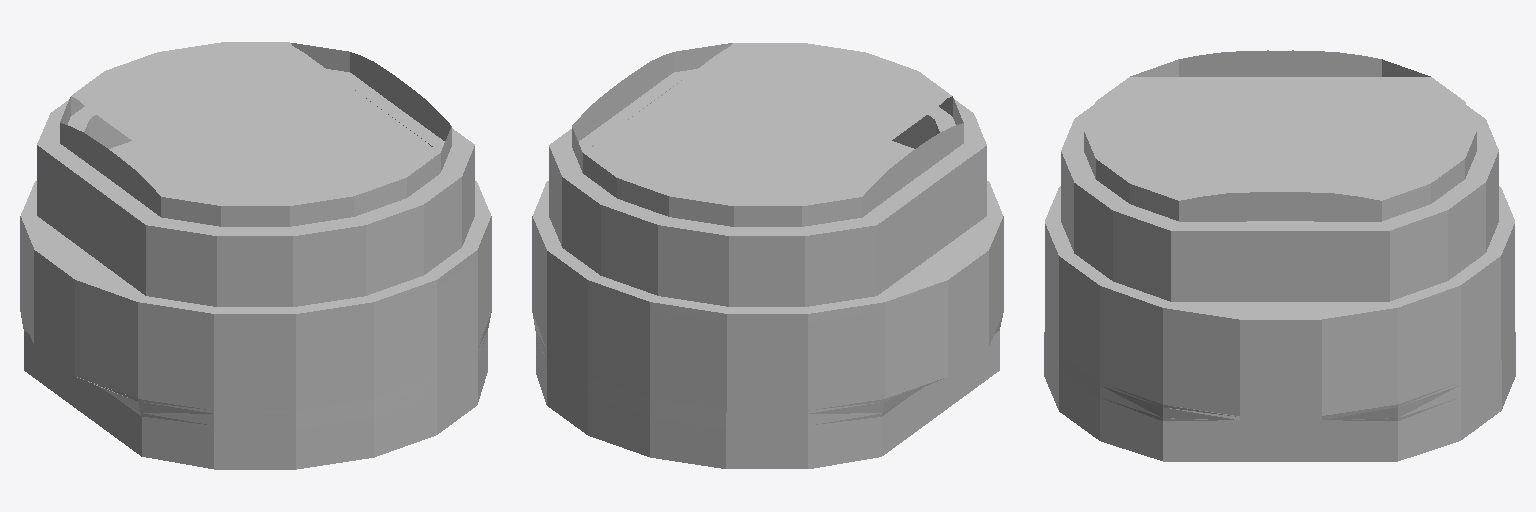
URDF robot description (spot_arm):
<?xml version="1.0" ?>
<robot name="spot_arm" xmlns:xacro="http://www.ros.org/wiki/xacro">

<material name="silver">
  <color rgba="0.700 0.700 0.700 1.000"/>
</material>
<link name="body">
    <visual>
        <geometry>
            <mesh filename="package://spot_arm/meshes/body.dae" />
        </geometry>
    </visual>
    <collision>
        <geometry>
            <mesh filename="package://spot_arm/meshes/body_collision.dae" />
        </geometry>
    </collision>
</link>

<joint name="base_arm_joint" type="fixed">
  <origin xyz="0.29 0 0.08" rpy="0 0 0" />
  <parent link="body" />
  <child link="base_arm_link" />
</joint>

<link name="base_arm_link">
  <inertial>
    <origin rpy="0 0 0" xyz="1.2371844231029972e-17 0.0 0.0325"/>
    <mass value="5.770791545379091"/>
    <inertia ixx="0.007226" ixy="-0.0" ixz="0.0" iyy="0.007226" iyz="0.0" izz="0.010387"/>
  </inertial>
  <visual>
    <origin rpy="0 0 0" xyz="0 0 0"/>
    <geometry>
      <mesh filename="package://spot_arm/meshes/arm/base_link.dae" scale="0.1 0.1 0.1"/>
    </geometry>
  </visual>
  <collision>
    <origin rpy="0 0 0" xyz="0 0 0"/>
    <geometry>
      <mesh filename="package://spot_arm/meshes/arm/base_link_collision.dae" scale="0.1 0.1 0.1"/>
    </geometry>
  </collision>
</link>

<joint name="arm_joint1" type="revolute">
  <origin rpy="0 0 1.5707963267948966" xyz="0.0 0.0 0.065"/>
  <parent link="base_arm_link"/>
  <child link="link1"/>
  <axis xyz="0.0 0.0 1.0"/>
  <limit effort="100" lower="-3.141593" upper="2.617994" velocity="100"/>
</joint>

<link name="link1">
  <inertial>
    <origin rpy="0 0 0" xyz="0.05071972800114364 -1.0308563411658574e-17 0.04676911608650795"/>
    <mass value="6.925827706354272"/>
    <inertia ixx="0.01241" ixy="-0.0" ixz="-0.001047" iyy="0.010387" iyz="0.0" izz="0.012306"/>
  </inertial>
  <visual>
    <origin rpy="0 0 0" xyz="-0.0 -0.0 -0.065"/>
    <geometry>
      <mesh filename="package://spot_arm/meshes/arm/link1.dae" scale="0.1 0.1 0.1"/>
    </geometry>
    <material name="silver"/>
  </visual>
  <collision>
    <origin rpy="0 0 0" xyz="-0.0 -0.0 -0.065"/>
    <geometry>
      <mesh filename="package://spot_arm/meshes/arm/link1_collision.dae" scale="0.1 0.1 0.1"/>
    </geometry>
  </collision>
</link>


<joint name="arm_joint2" type="revolute">
  <origin rpy="-3.141592653589793 0 0" xyz="0.015 0.0 0.05"/>
  <parent link="link1"/>
  <child link="link2"/>
  <axis xyz="1.0 0.0 0.0"/>
  <limit effort="100" lower="-3.665191" upper="0.0" velocity="100"/>
</joint>


<link name="link2">
  <inertial>
    <origin rpy="0 0 0" xyz="-0.0163095589512068 0.17540914221218962 0.0"/>
    <mass value="12.658281999999998"/>
    <inertia ixx="0.12979" ixy="0.002625" ixz="0.0" iyy="0.01004" iyz="0.0" izz="0.129493"/>
  </inertial>
  <visual>
    <origin rpy="0 0 0" xyz="-0.015 -0.0 -0.115"/>
    <geometry>
      <mesh filename="package://spot_arm/meshes/arm/link2.dae" scale="0.1 0.1 0.1"/>
    </geometry>
    <material name="silver"/>
  </visual>
  <collision>
    <origin rpy="0 0 0" xyz="-0.015 -0.0 -0.115"/>
    <geometry>
      <mesh filename="package://spot_arm/meshes/arm/link2_collision.dae" scale="0.1 0.1 0.1"/>
    </geometry>
  </collision>
</link>



<joint name="arm_joint3" type="revolute">
  <origin rpy="0 0 0" xyz="0.002 0.3125 0.0"/>
  <parent link="link2"/>
  <child link="link3"/>
  <axis xyz="1.0 0.0 0.0"/>
  <limit effort="100" lower="0.0" upper="2.96706" velocity="100"/>
</joint>


<link name="link3">
  <inertial>
    <origin rpy="0 0 0" xyz="-0.015621881612358529 0.06665620790957599 -0.058074231003688394"/>
    <mass value="7.368455487741179"/>
    <inertia ixx="0.018073" ixy="0.000915" ixz="-0.00101" iyy="0.011789" iyz="0.003728" izz="0.01667"/>
  </inertial>
  <visual>
    <origin rpy="0 0 0" xyz="-0.017 -0.3125 -0.115"/>
    <geometry>
      <mesh filename="package://spot_arm/meshes/arm/link3.dae" scale="0.1 0.1 0.1"/>
    </geometry>
    <material name="silver"/>
  </visual>
  <collision>
    <origin rpy="0 0 0" xyz="-0.017 -0.3125 -0.115"/>
    <geometry>
      <mesh filename="package://spot_arm/meshes/arm/link3_collision.dae" scale="0.1 0.1 0.1"/>
    </geometry>
  </collision>
</link>


<joint name="arm_joint4" type="revolute">
  <origin rpy="0 0 0" xyz="-0.018 0.138 -0.0675"/>
  <parent link="link3"/>
  <child link="link4"/>
  <axis xyz="0.0 1.0 0.0"/>
  <limit effort="100" lower="-2.879793" upper="2.879793" velocity="100"/>
</joint>


<link name="link4">
  <inertial>
    <origin rpy="0 0 0" xyz="-0.00911464892336129 0.12606054498393937 5.551115123125783e-17"/>
    <mass value="10.95245995004642"/>
    <inertia ixx="0.066789" ixy="0.011971" ixz="-0.0" iyy="0.014993" iyz="0.0" izz="0.071949"/>
  </inertial>
  <visual>
    <origin rpy="0 0 0" xyz="0.001 -0.4505 -0.0475"/>
    <geometry>
      <mesh filename="package://spot_arm/meshes/arm/link4.dae" scale="0.1 0.1 0.1"/>
    </geometry>
    <material name="silver"/>
  </visual>
  <collision>
    <origin rpy="0 0 0" xyz="0.001 -0.4505 -0.0475"/>
    <geometry>
      <mesh filename="package://spot_arm/meshes/arm/link4_collision.dae" scale="0.1 0.1 0.1"/>
    </geometry>
  </collision>
</link>


<joint name="arm_joint5" type="revolute">
  <origin rpy="0 0 0" xyz="-0.0475 0.24809 0.0"/>
  <parent link="link4"/>
  <child link="wrist"/>
  <axis xyz="1.0 0.0 0.0"/>
  <limit effort="100" lower="-1.570796" upper="1.570796" velocity="100"/>
</joint>



<link name="wrist">
  <inertial>
    <origin rpy="0 0 0" xyz="0.03954999709763633 0.03472006124891969 4.209155544249166e-08"/>
    <mass value="3.2278801394086396"/>
    <inertia ixx="0.00339" ixy="-2.1e-05" ixz="0.0" iyy="0.002242" iyz="-0.0" izz="0.003439"/>
  </inertial>
  <visual>
    <origin rpy="0 0 0" xyz="0.0485 -0.69859 -0.0475"/>
    <geometry>
      <mesh filename="package://spot_arm/meshes/arm/wrist.dae" scale="0.1 0.1 0.1"/>
    </geometry>
    <material name="silver"/>
  </visual>
  <collision>
    <origin rpy="0 0 0" xyz="0.0485 -0.69859 -0.0475"/>
    <geometry>
      <mesh filename="package://spot_arm/meshes/arm/wrist_collision.dae" scale="0.1 0.1 0.1"/>
    </geometry>
  </collision>
</link>

<joint name="arm_joint6" type="revolute">
  <origin rpy="0 0 0" xyz="0.04 0.081 0.0"/>
  <parent link="wrist"/>
  <child link="gripper"/>
  <axis xyz="-0.0 1.0 0.0"/>
  <limit effort="100" lower="-2.96706" upper="2.96706" velocity="100"/>
</joint>


<link name="gripper">
  <inertial>
    <origin rpy="0 0 0" xyz="-8.366123908053191e-08 0.07051371901138614 0.017123167388316526"/>
    <mass value="5.9780007036604434"/>
    <inertia ixx="0.01723" ixy="0.0" ixz="0.0" iyy="0.00734" iyz="-0.003871" izz="0.0153"/>
  </inertial>
  <visual>
    <origin rpy="0 0 0" xyz="0.0085 -0.77959 -0.0475"/>
    <geometry>
      <mesh filename="package://spot_arm/meshes/arm/gripper.dae" scale="0.1 0.1 0.1"/>
    </geometry>
    <material name="silver"/>
  </visual>
  <collision>
    <origin rpy="0 0 0" xyz="0.0085 -0.77959 -0.0475"/>
    <geometry>
      <mesh filename="package://spot_arm/meshes/arm/gripper_collision.dae" scale="0.1 0.1 0.1"/>
    </geometry>
  </collision>
</link>

<joint name="arm_gripper" type="revolute">
  <origin rpy="0 0 0" xyz="-0.86859 0.043915 -0.029"/>
  <parent link="gripper"/>
  <child link="finger"/>
  <axis xyz="1.0 -0.0 0.0"/>
  <limit effort="100" lower="-1.396263" upper="0.349066" velocity="100"/>
</joint>

<link name="finger">
  <inertial>
    <origin rpy="0 0 0" xyz="0.8635899028063472 0.09862056591557622 0.00850232975194119"/>
    <mass value="1.71236178687828"/>
    <inertia ixx="0.002129" ixy="0.0" ixz="-0.0" iyy="0.001681" iyz="0.000162" izz="0.003403"/>
  </inertial>
  <visual>
    <origin rpy="0 0 0" xyz="0.87709 -0.823505 -0.0185"/>
    <geometry>
      <mesh filename="package://spot_arm/meshes/arm/finger.dae" scale="0.1 0.1 0.1"/>
    </geometry>
    <material name="silver"/>
  </visual>
  <collision>
    <origin rpy="0 0 0" xyz="0.87709 -0.823505 -0.0185"/>
    <geometry>
      <mesh filename="package://spot_arm/meshes/arm/finger_collision.dae" scale="0.1 0.1 0.1"/>
    </geometry>
  </collision>
</link>

  <joint name="tool_tip_joint" type="fixed">
    <origin xyz="0.0 0.2 0.0" rpy="-1.570796 0 0" />
    <parent link="gripper" />
    <child link="tool_tip" />
  </joint>

  <link name="tool_tip"/>

   <link name="base_link"/>
    <joint name="base_link_joint" type="fixed">
        <origin xyz="0 0 0" rpy="0 0 0" />
        <parent link="body" />
        <child link="base_link" />
    </joint>

    <link name="front_rail"/>
    <joint name="front_rail_joint" type="fixed">
        <origin xyz="0.223 0 0.0805" rpy="0 0 0" />
        <parent link="body" />
        <child link="front_rail" />
    </joint>

    <link name="real_front_rail"/>
    <joint name="real_front_rail_joint" type="fixed">
        <origin xyz="0.2075 0 0.0805" rpy="0 0 0" />
        <parent link="body" />
        <child link="real_front_rail" />
    </joint>

    <link name="rear_rail"/>
    <joint name="rear_rail_joint" type="fixed">
        <origin xyz="-0.223 0 0.0805" rpy="0 0 0" />
        <parent link="body" />
        <child link="rear_rail" />
    </joint>

    <link name="real_rear_rail"/>
    <joint name="real_rear_rail_joint" type="fixed">
        <origin xyz="-0.415 0 0" rpy="0 0 0" />
        <parent link="real_front_rail" />
        <child link="real_rear_rail" />
    </joint>

    <link name="front_left_hip">
        <visual>
            <geometry>
                <mesh filename="package://spot_arm/meshes/front_left_hip.dae" />
            </geometry>
        </visual>
        <collision>
            <geometry>
                <mesh filename="package://spot_arm/meshes/front_left_hip_collision.dae" />
            </geometry>
        </collision>
    </link>
    <joint name="front_left_hip_x" type="revolute">
        <origin xyz="0.29785 0.05500 0.00000" rpy="0.0 0 0" />
        <axis xyz="1 0 0" />
        <parent link="body" />
        <child link="front_left_hip" />
        <limit effort="1000" velocity="1000.00" lower="-0.78539816339744827899" upper="0.78539816339744827899" />
    </joint>
    <link name="front_left_upper_leg">
        <visual>
            <geometry>
                <mesh filename="package://spot_arm/meshes/front_left_upper_leg.dae" />
            </geometry>
        </visual>
        <collision>
            <geometry>
                <mesh filename="package://spot_arm/meshes/front_left_upper_leg_collision.dae" />
            </geometry>
        </collision>
    </link>
    <joint name="front_left_hip_y" type="revolute">
        <origin xyz="0.0 0.110945 0.0" rpy="0 1.3 0" />
        <axis xyz="0 1 0" />
        <parent link="front_left_hip" />
        <child link="front_left_upper_leg" />
        <limit effort="1000" velocity="1000.00" lower="-0.89884456477707963539" upper="2.2951079663725435509" />
    </joint>
    <link name="front_left_lower_leg">
        <visual>
            <geometry>
                <mesh filename="package://spot_arm/meshes/front_left_lower_leg.dae" />
            </geometry>
        </visual>
        <collision>
            <geometry>
                <mesh filename="package://spot_arm/meshes/front_left_lower_leg_collision.dae" />
            </geometry>
        </collision>
    </link>
    <joint name="front_left_knee" type="revolute">
        <origin xyz="0.025 0.000 -0.3205" rpy="0 -2.6 0" />
        <axis xyz="0 1 0" />
        <parent link="front_left_upper_leg" />
        <child link="front_left_lower_leg" />
        <limit effort="1000" velocity="1000.00" lower="-2.7929" upper="-0.254801" />
    </joint>
    <link name="front_right_hip">
        <visual>
            <geometry>
                <mesh filename="package://spot_arm/meshes/front_right_hip.dae" />
            </geometry>
        </visual>
        <collision>
            <geometry>
                <mesh filename="package://spot_arm/meshes/front_right_hip_collision.dae" />
            </geometry>
        </collision>
    </link>
    <joint name="front_right_hip_x" type="revolute">
        <origin xyz="0.29785 -0.05500 0.00000" rpy="0 0 0" />
        <axis xyz="1 0 0" />
        <parent link="body" />
        <child link="front_right_hip" />
        <limit effort="1000" velocity="1000.00" lower="-0.78539816339744827899" upper="0.78539816339744827899" />
    </joint>
    <link name="front_right_upper_leg">
        <visual>
            <geometry>
                <mesh filename="package://spot_arm/meshes/front_right_upper_leg.dae" />
            </geometry>
        </visual>
        <collision>
            <geometry>
                <mesh filename="package://spot_arm/meshes/front_right_upper_leg_collision.dae" />
            </geometry>
        </collision>
    </link>
    <joint name="front_right_hip_y" type="revolute">
        <origin xyz="0.0 -0.110945 0.0" rpy="0 1.3 0" />
        <axis xyz="0 1 0" />
        <parent link="front_right_hip" />
        <child link="front_right_upper_leg" />
        <limit effort="1000" velocity="1000.00" lower="-0.89884456477707963539" upper="2.2951079663725435509" />
    </joint>
    <link name="front_right_lower_leg">
        <visual>
            <geometry>
                <mesh filename="package://spot_arm/meshes/front_right_lower_leg.dae" />
            </geometry>
        </visual>
        <collision>
            <geometry>
                <mesh filename="package://spot_arm/meshes/front_right_lower_leg_collision.dae" />
            </geometry>
        </collision>
    </link>
    <joint name="front_right_knee" type="revolute">
        <origin xyz="0.025 0.000 -0.3205" rpy="0 -2.6 0" />
        <axis xyz="0 1 0" />
        <parent link="front_right_upper_leg" />
        <child link="front_right_lower_leg" />
        <limit effort="1000" velocity="1000.00" lower="-2.7929" upper="-0.247563" />
    </joint>
    <link name="rear_left_hip">
        <visual>
            <geometry>
                <mesh filename="package://spot_arm/meshes/rear_left_hip.dae" />
            </geometry>
        </visual>
        <collision>
            <geometry>
                <mesh filename="package://spot_arm/meshes/rear_left_hip_collision.dae" />
            </geometry>
        </collision>
    </link>
    <joint name="rear_left_hip_x" type="revolute">
        <origin xyz="-0.29785 0.05500 0.00000" rpy="0 0 0" />
        <axis xyz="1 0 0" />
        <parent link="body" />
        <child link="rear_left_hip" />
        <limit effort="1000" velocity="1000.00" lower="-0.78539816339744827899" upper="0.78539816339744827899" />
    </joint>
    <link name="rear_left_upper_leg">
        <visual>
            <geometry>
                <mesh filename="package://spot_arm/meshes/rear_left_upper_leg.dae" />
            </geometry>
        </visual>
        <collision>
            <geometry>
                <mesh filename="package://spot_arm/meshes/rear_left_upper_leg_collision.dae" />
            </geometry>
        </collision>
    </link>
    <joint name="rear_left_hip_y" type="revolute">
        <origin xyz="0.0 0.110945 0.0" rpy="0 1.3 0" />
        <axis xyz="0 1 0" />
        <parent link="rear_left_hip" />
        <child link="rear_left_upper_leg" />
        <limit effort="1000" velocity="1000.00" lower="-0.89884456477707963539" upper="2.2951079663725435509" />
    </joint>
    <link name="rear_left_lower_leg">
        <visual>
            <geometry>
                <mesh filename="package://spot_arm/meshes/rear_left_lower_leg.dae" />
            </geometry>
        </visual>
        <collision>
            <geometry>
                <mesh filename="package://spot_arm/meshes/rear_left_lower_leg_collision.dae" />
            </geometry>
        </collision>
    </link>
    <joint name="rear_left_knee" type="revolute">
        <origin xyz="0.025 0.000 -0.3205" rpy="0 -2.6 0" />
        <axis xyz="0 1 0" />
        <parent link="rear_left_upper_leg" />
        <child link="rear_left_lower_leg" />
        <limit effort="1000" velocity="1000.00" lower="-2.7929" upper="-0.267153" />
    </joint>
    <link name="rear_right_hip">
        <visual>
            <geometry>
                <mesh filename="package://spot_arm/meshes/rear_right_hip.dae" />
            </geometry>
        </visual>
        <collision>
            <geometry>
                <mesh filename="package://spot_arm/meshes/rear_right_hip_collision.dae" />
            </geometry>
        </collision>
    </link>
    <joint name="rear_right_hip_x" type="revolute">
        <origin xyz="-0.29785 -0.05500 0.00000" rpy="0 0 0" />
        <axis xyz="1 0 0" />
        <parent link="body" />
        <child link="rear_right_hip" />
        <limit effort="1000" velocity="1000.00" lower="-0.78539816339744827899" upper="0.78539816339744827899" />
    </joint>
    <link name="rear_right_upper_leg">
        <visual>
            <geometry>
                <mesh filename="package://spot_arm/meshes/rear_right_upper_leg.dae" />
            </geometry>
        </visual>
        <collision>
            <geometry>
                <mesh filename="package://spot_arm/meshes/rear_right_upper_leg_collision.dae" />
            </geometry>
        </collision>
    </link>
    <joint name="rear_right_hip_y" type="revolute">
        <origin xyz="0.0 -0.110945 0.0" rpy="0 1.3 0" />
        <axis xyz="0 1 0" />
        <parent link="rear_right_hip" />
        <child link="rear_right_upper_leg" />
        <limit effort="1000" velocity="1000.00" lower="-0.89884456477707963539" upper="2.2951079663725435509" />
    </joint>
    <link name="rear_right_lower_leg">
        <visual>
            <geometry>
                <mesh filename="package://spot_arm/meshes/rear_right_lower_leg.dae" />
            </geometry>
        </visual>
        <collision>
            <geometry>
                <mesh filename="package://spot_arm/meshes/rear_right_lower_leg_collision.dae" />
            </geometry>
        </collision>
    </link>
    <joint name="rear_right_knee" type="revolute">
        <origin xyz="0.025 0.000 -0.3205" rpy="0 -2.6 0" />
        <axis xyz="0 1 0" />
        <parent link="rear_right_upper_leg" />
        <child link="rear_right_lower_leg" />
        <limit effort="1000" velocity="1000.00" lower="-2.7929" upper="-0.257725" />
    </joint>
</robot>

--- Render facts (derived) ---
Views: 3 orthographic renders of the robot side by side, from view 1: azimuth 30°, elevation 25°; view 2: azimuth 150°, elevation 25°; view 3: azimuth 270°, elevation 25°.
Robot: spot_arm — 27 links, 26 joints (19 revolute, 7 fixed); root link body; default pose: all joints at 0 but 4 set to mid-range because 0 is outside their limits (front_left_knee = -1.52, front_right_knee = -1.52, rear_left_knee = -1.53, rear_right_knee = -1.53).
Visible links, largest first — view 1: base_arm_link; view 2: base_arm_link; view 3: base_arm_link.
Link boxes in pixels (bbox=[...]): base_arm_link: bbox=[20, 42, 491, 469]; base_arm_link: bbox=[532, 43, 1003, 468]; base_arm_link: bbox=[1044, 50, 1515, 461].
Size in the robot's own frame: 11.24 by 11.41 by 6.84 metres.
Meshes: 21 distinct files referenced, 8 mesh visuals loaded (8 Collada DAE); not drawn: 13 (reference not matched to a file when rendering).